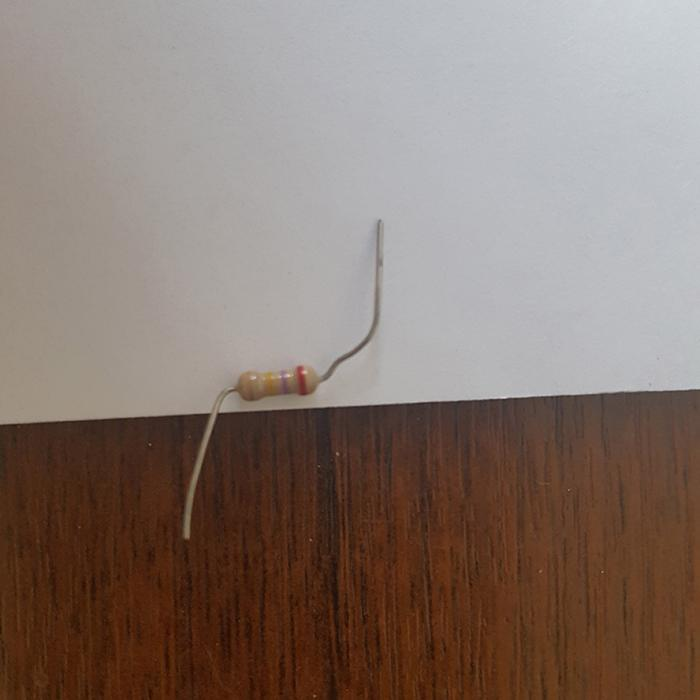resistor: (236, 364, 320, 402)
